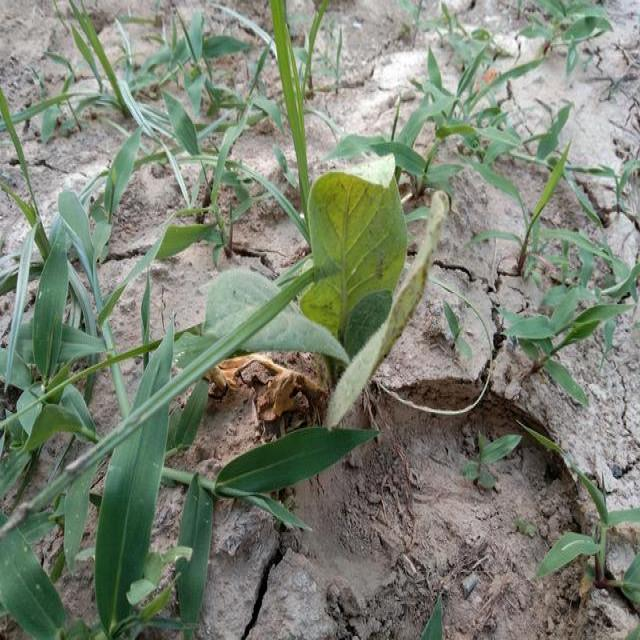crop: (214, 164, 450, 425)
